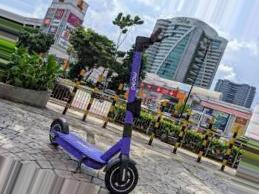scooter: (48, 27, 169, 194)
